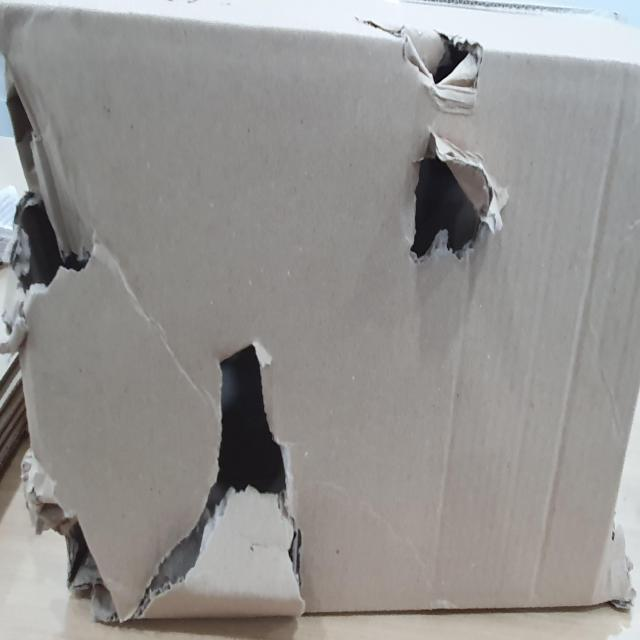damaged: (118, 328, 305, 622), (355, 12, 503, 266), (1, 37, 104, 301)
